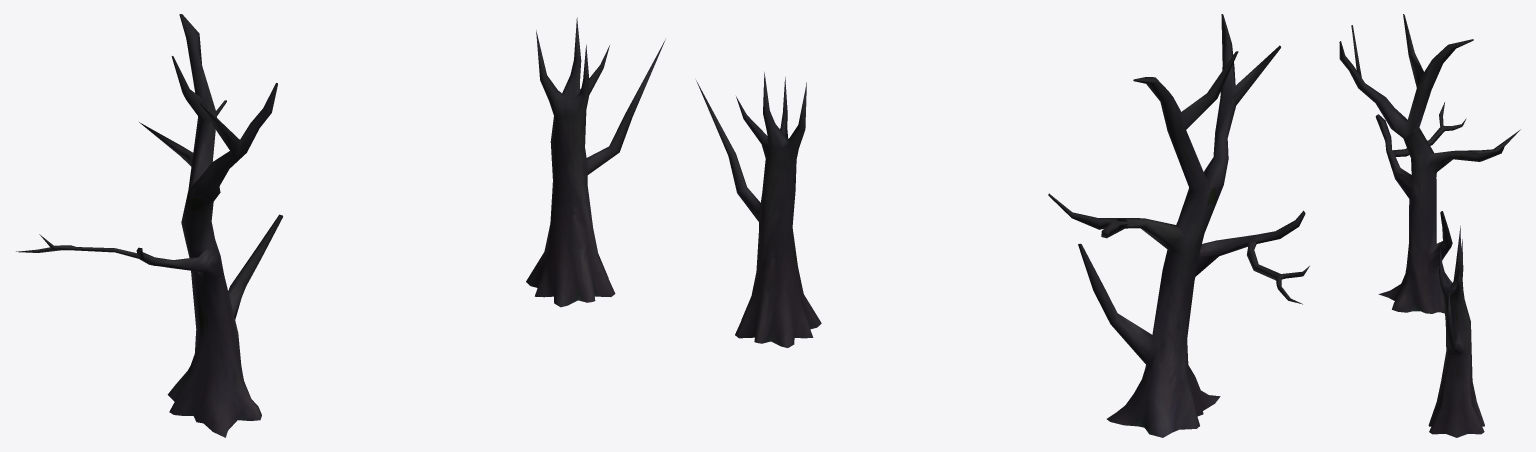
Rendered from Area13_23.fbx.
3 renders of one model, left to right at view 1: azimuth 30°, elevation 25°; view 2: azimuth 150°, elevation 25°; view 3: azimuth 270°, elevation 25°, orthographic. The views are drawn at different scales.
Parts seen in each view (by area): view 1: Area13_23; view 2: Area13_23; view 3: Area13_23.
Boxes of the visible parts, left/top/right/bottom form: Area13_23: left=16, top=14, right=665, bottom=437; Area13_23: left=696, top=14, right=1309, bottom=437; Area13_23: left=1339, top=14, right=1520, bottom=437.
Bounding box in the file's own units: 2268 × 1278 × 787.
